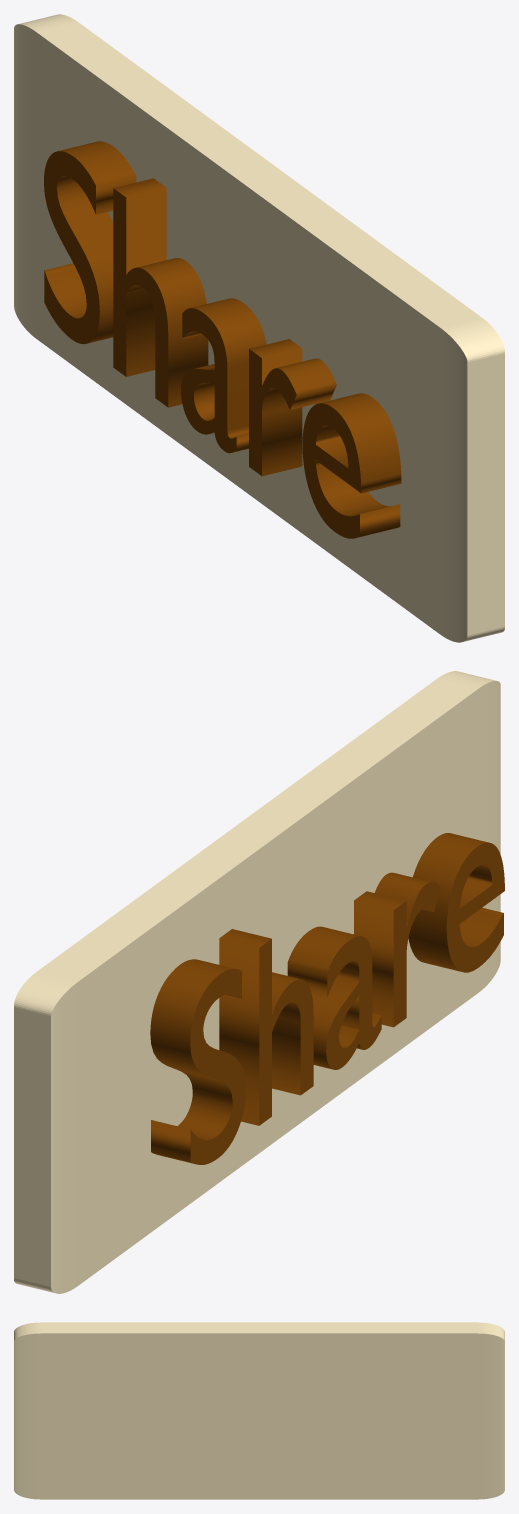
File: share.glb
3 views of the same model, one above another, from view 1: azimuth 30°, elevation 25°; view 2: azimuth 150°, elevation 25°; view 3: azimuth 270°, elevation 25° (orthographic). The views are drawn at different scales.
Parts seen in each view (by area): view 1: Cube; view 2: Cube; view 3: Cube.
Part boxes in pixels (bbox=[...]): Cube: bbox=[14, 14, 504, 642]; Cube: bbox=[14, 671, 504, 1293]; Cube: bbox=[14, 1322, 504, 1499].
Bounding box in the file's own units: 0.6468 × 2 × 5.36.
